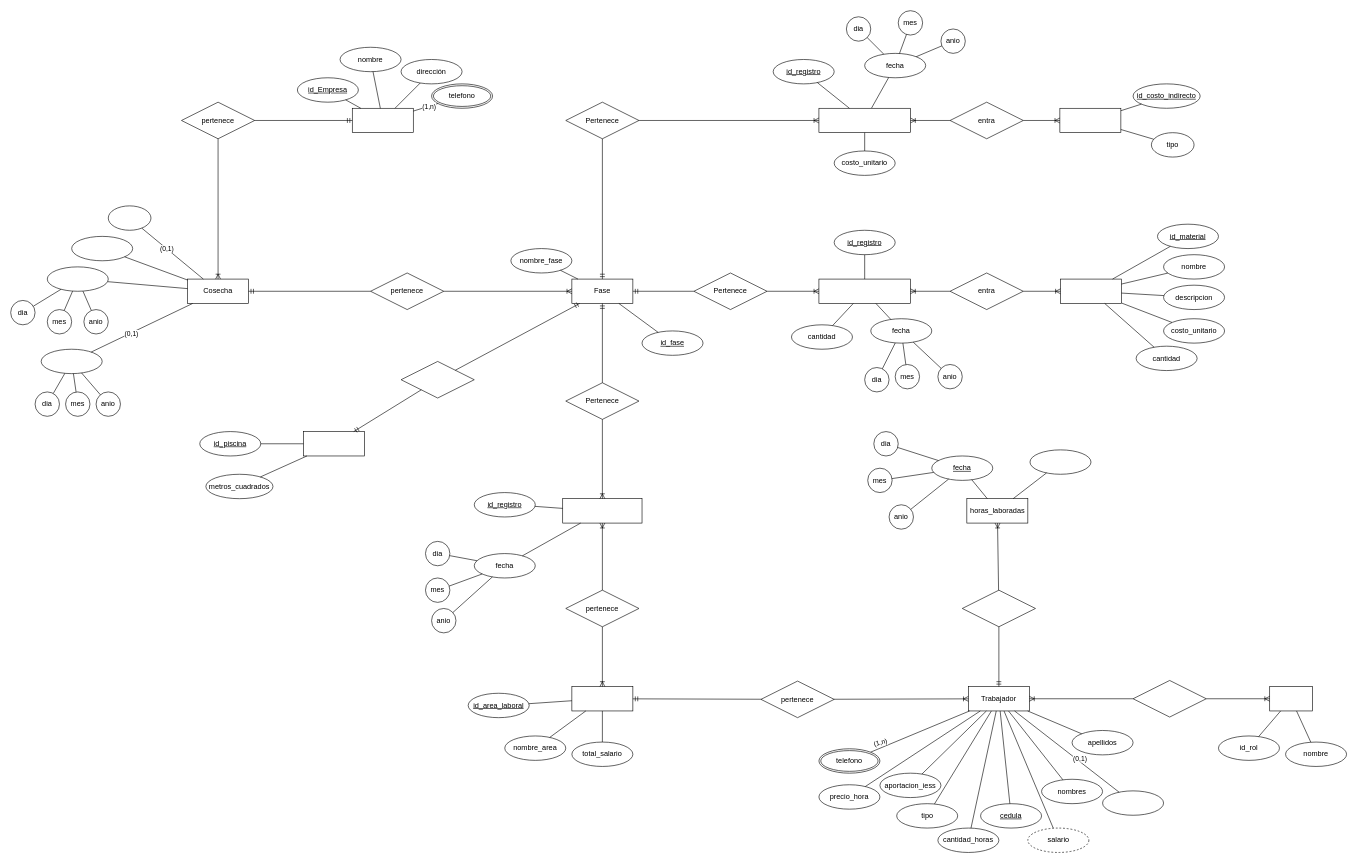
Some shapes in this 1357 by 863 pixel diagram are drawn without their labels. The shapes that lost their labels are listed below. From the top down, each one's centre as x and y in pixels, then its label:
At point 382,120: "Empresa".
At point 864,120: "Registro_costos_indirectos".
At point 1090,120: "Costos_indirectos".
At point 129,217: "peso".
At point 102,248: "id_cosecha".
At point 77,278: "fecha_inicio".
At point 864,290: "Registro_matreria_prima".
At point 1090,290: "Materia_prima".
At point 71,361: "fecha_fin".
At point 437,379: "usa".
At point 333,443: "Piscina".
At point 1060,461: "horas".
At point 602,510: "Registro_mano_obra".
At point 998,608: "realiza".
At point 602,698: "Area_Laboral".
At point 1169,698: "tiene".
At point 1290,698: "Rol".
At point 1133,802: "correo".
